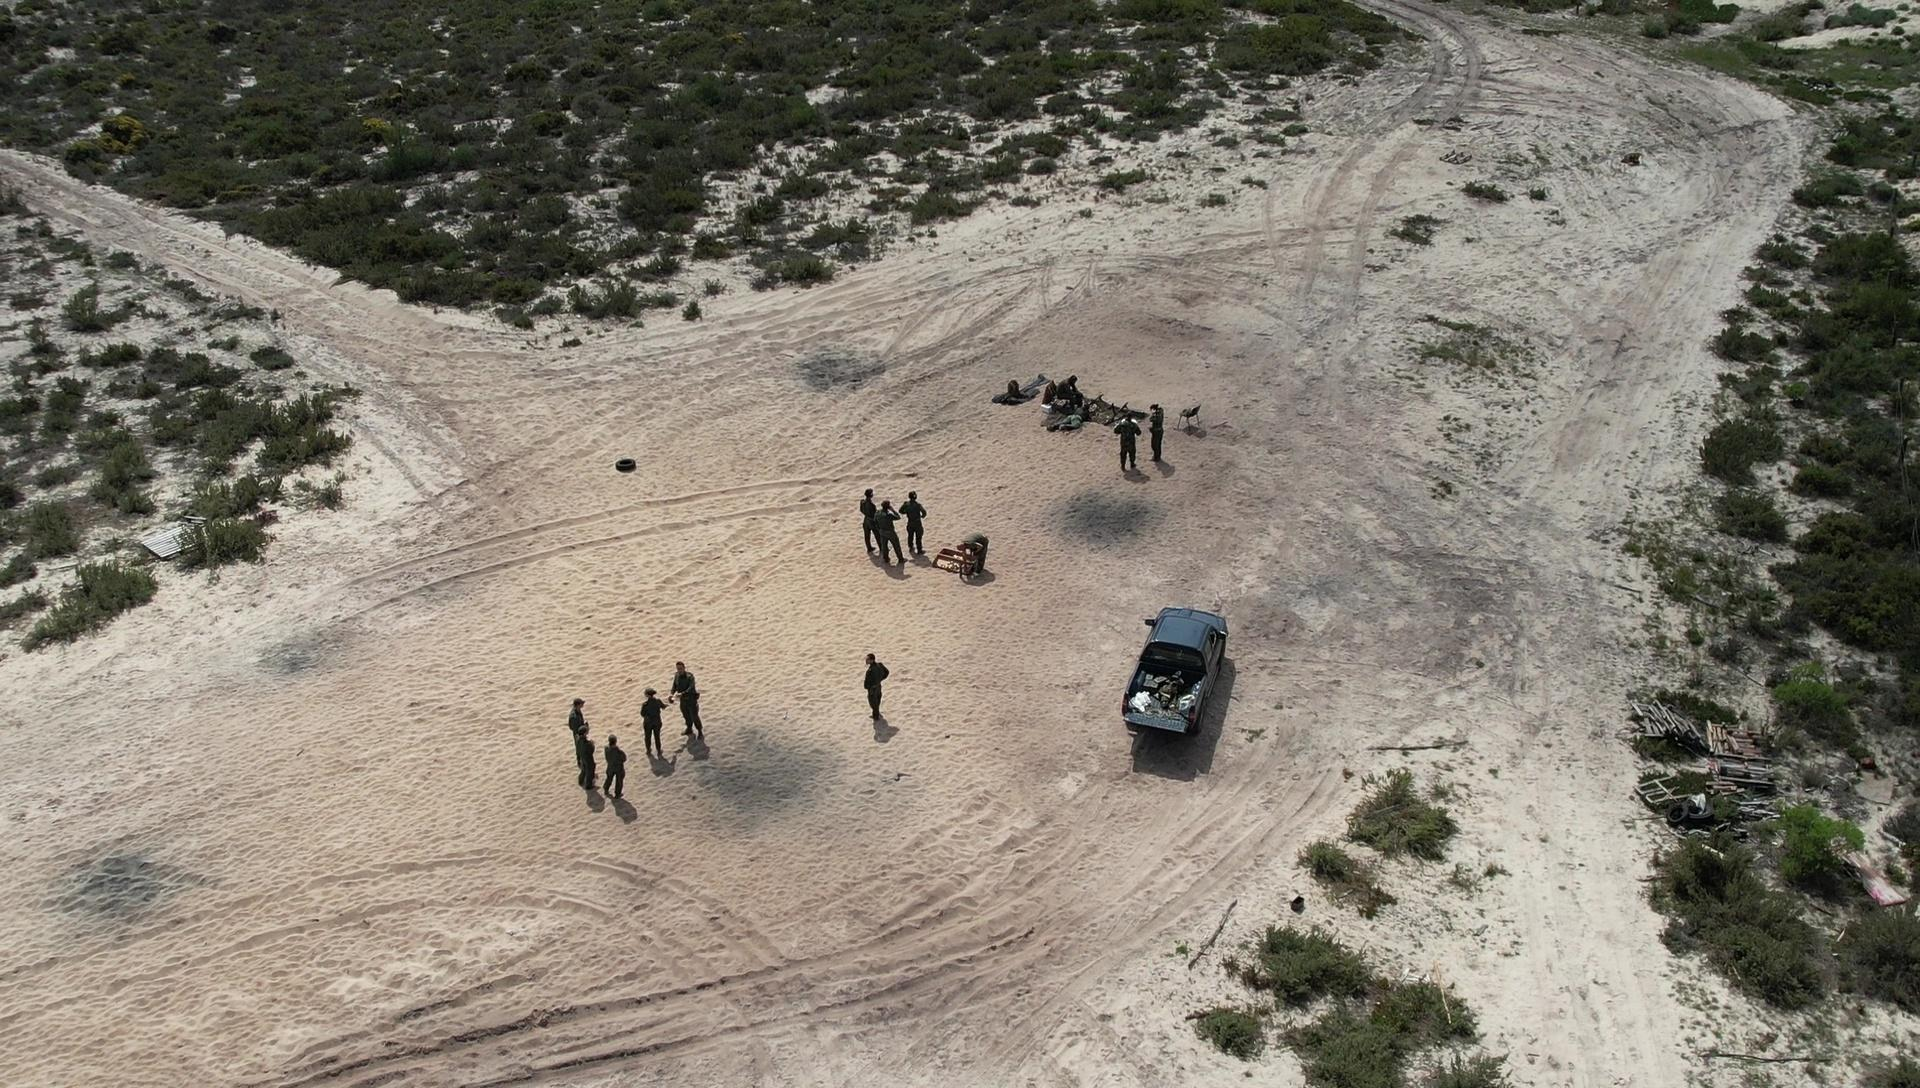Soldier: (667, 657, 717, 741), (632, 680, 676, 769), (856, 648, 895, 731), (873, 495, 909, 579), (601, 728, 636, 808), (570, 721, 605, 797), (1106, 411, 1147, 473), (1143, 396, 1178, 469), (957, 525, 1004, 578), (858, 475, 885, 558), (899, 487, 927, 564), (1056, 392, 1104, 433), (1059, 368, 1087, 405), (567, 696, 593, 733)
